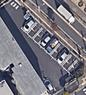parkingspot: (20, 17, 84, 78)
